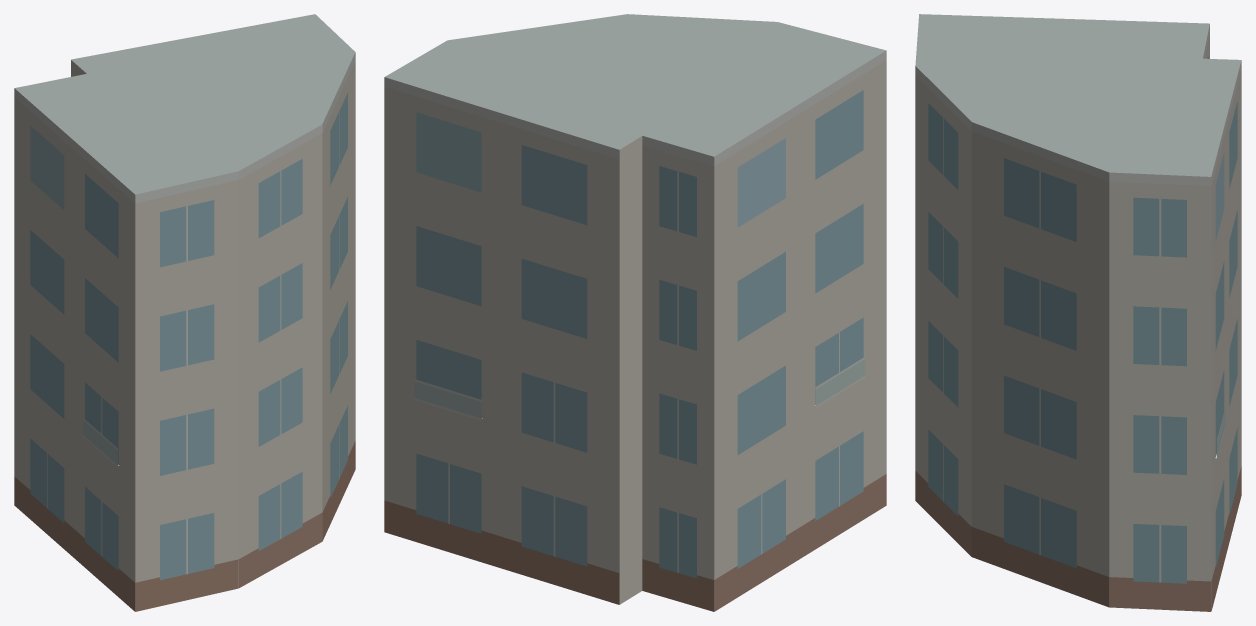
The model's file is survey-upis-32463446.glb.
The picture shows the model from 3 angles, left to right: view 1: azimuth 30°, elevation 25°; view 2: azimuth 150°, elevation 25°; view 3: azimuth 270°, elevation 25°; orthographic projection. The views are drawn at different scales.
Parts seen in each view (by area): view 1: survey-upis-32463446.tmp; view 2: survey-upis-32463446.tmp; view 3: survey-upis-32463446.tmp.
Boxes of the visible parts, <box> form: survey-upis-32463446.tmp: <box>14,14,355,611</box>; survey-upis-32463446.tmp: <box>384,14,886,611</box>; survey-upis-32463446.tmp: <box>915,14,1241,611</box>.
Size of the model in its own units: 9.41 by 11.7 by 7.96.
